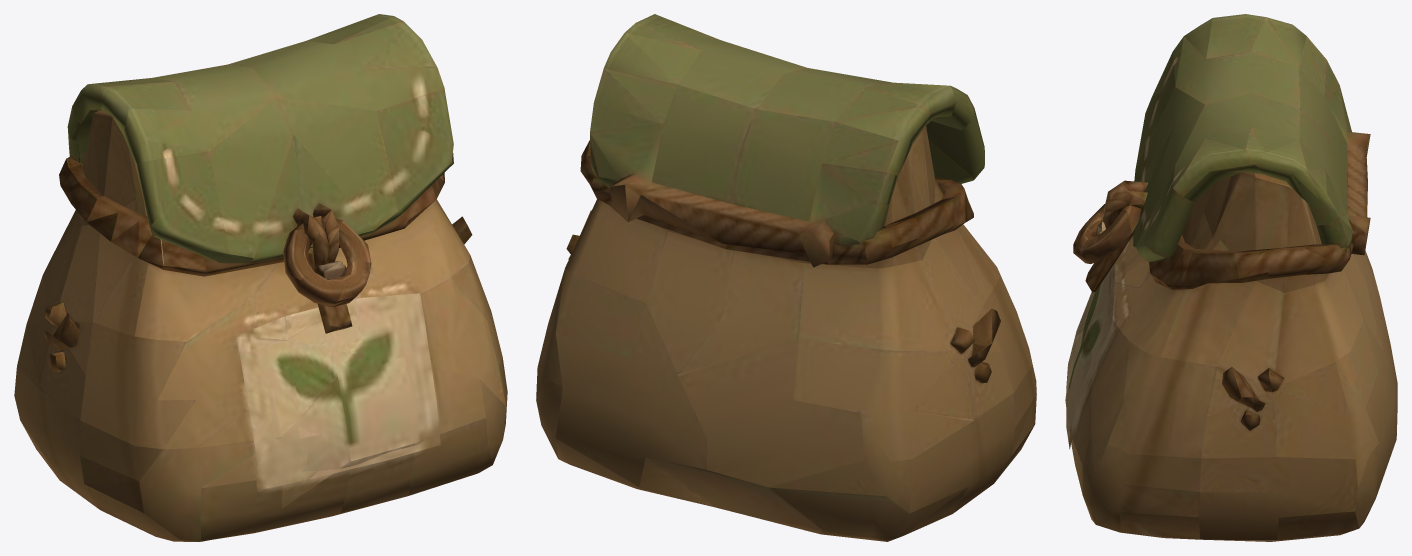
Rendered from seed-pouch.glb.
3 renders of one model, left to right at view 1: azimuth 30°, elevation 25°; view 2: azimuth 150°, elevation 25°; view 3: azimuth 270°, elevation 25°, orthographic. The views are drawn at different scales.
Visible parts, largest first — view 1: mesh_node; view 2: mesh_node; view 3: mesh_node.
Boxes of the visible parts, x1,y1,x2,y2 form: mesh_node: (14,14,507,541); mesh_node: (536,14,1036,541); mesh_node: (1065,14,1397,541).
Size of the model in its own units: 1 by 0.9941 by 0.7461.
1 material, 1 textured.
